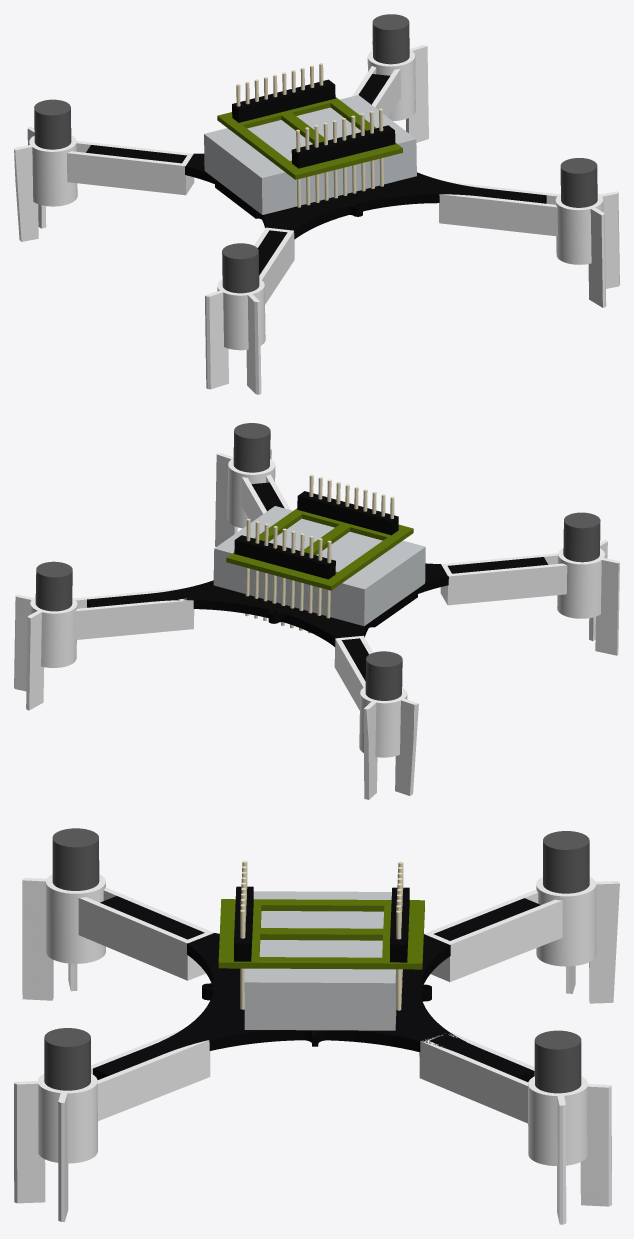
Rendered from crazyflie.dae.
3 renders of one model, top to bottom at view 1: azimuth 30°, elevation 25°; view 2: azimuth 150°, elevation 25°; view 3: azimuth 270°, elevation 25°, orthographic. The views are drawn at different scales.
Parts seen in each view (by area): view 1: Part1, MotorMountsSlanted_006, pcb, MotorMountsSlanted_005, MotorMountsSlanted_004, MotorMountsSlanted_001, Part3, MotorMountsSlanted_003, Part5, Part5_001, Motors2_001, Motors2_002 (+4 smaller); view 2: Part1, pcb, MotorMountsSlanted_006, MotorMountsSlanted_003, MotorMountsSlanted_005, MotorMountsSlanted, MotorMountsSlanted_002, Part3, MotorMountsSlanted_004, Part5, Part5_001, Motors2 (+4 smaller); view 3: pcb, Part1, MotorMountsSlanted_006, MotorMountsSlanted_004, MotorMountsSlanted_003, Part3, MotorMountsSlanted_005, MotorMountsSlanted, MotorMountsSlanted_001, MotorMountsSlanted_002, Motors2_002, Motors2_003 (+4 smaller).
Boxes of the visible parts, x1,y1,x2,y2 form: Part1: (204, 95, 416, 214); MotorMountsSlanted_006: (14, 126, 194, 241); pcb: (86, 74, 546, 274); MotorMountsSlanted_005: (205, 279, 265, 394); MotorMountsSlanted_004: (555, 191, 619, 307); MotorMountsSlanted_001: (439, 182, 559, 236); Part3: (217, 97, 402, 179); MotorMountsSlanted_003: (367, 40, 428, 142); Part5: (232, 79, 335, 122); Part5_001: (291, 125, 395, 168); Motors2_001: (34, 99, 71, 149); Motors2_002: (372, 14, 409, 64); Part1: (213, 506, 425, 625); pcb: (87, 482, 548, 680); MotorMountsSlanted_006: (334, 635, 418, 799); MotorMountsSlanted_003: (14, 594, 77, 710); MotorMountsSlanted_005: (557, 539, 619, 655); MotorMountsSlanted: (440, 553, 567, 605); MotorMountsSlanted_002: (74, 588, 194, 639); Part3: (226, 508, 413, 590); MotorMountsSlanted_004: (215, 449, 275, 546); Part5: (234, 535, 335, 579); Part5_001: (297, 491, 398, 535); Motors2: (233, 423, 270, 472); pcb: (93, 896, 540, 1081); Part1: (244, 891, 396, 1030); MotorMountsSlanted_006: (424, 877, 619, 1003); MotorMountsSlanted_004: (14, 1073, 97, 1221); MotorMountsSlanted_003: (528, 1076, 611, 1224); Part3: (218, 899, 424, 969); MotorMountsSlanted_005: (22, 874, 105, 1000); MotorMountsSlanted: (78, 887, 214, 980); MotorMountsSlanted_001: (91, 1029, 210, 1120); MotorMountsSlanted_002: (419, 1031, 534, 1123); Motors2_002: (534, 1030, 581, 1093); Motors2_003: (52, 828, 99, 890).
Size of the model in its own units: 0.081 by 0.0807 by 0.0319.
